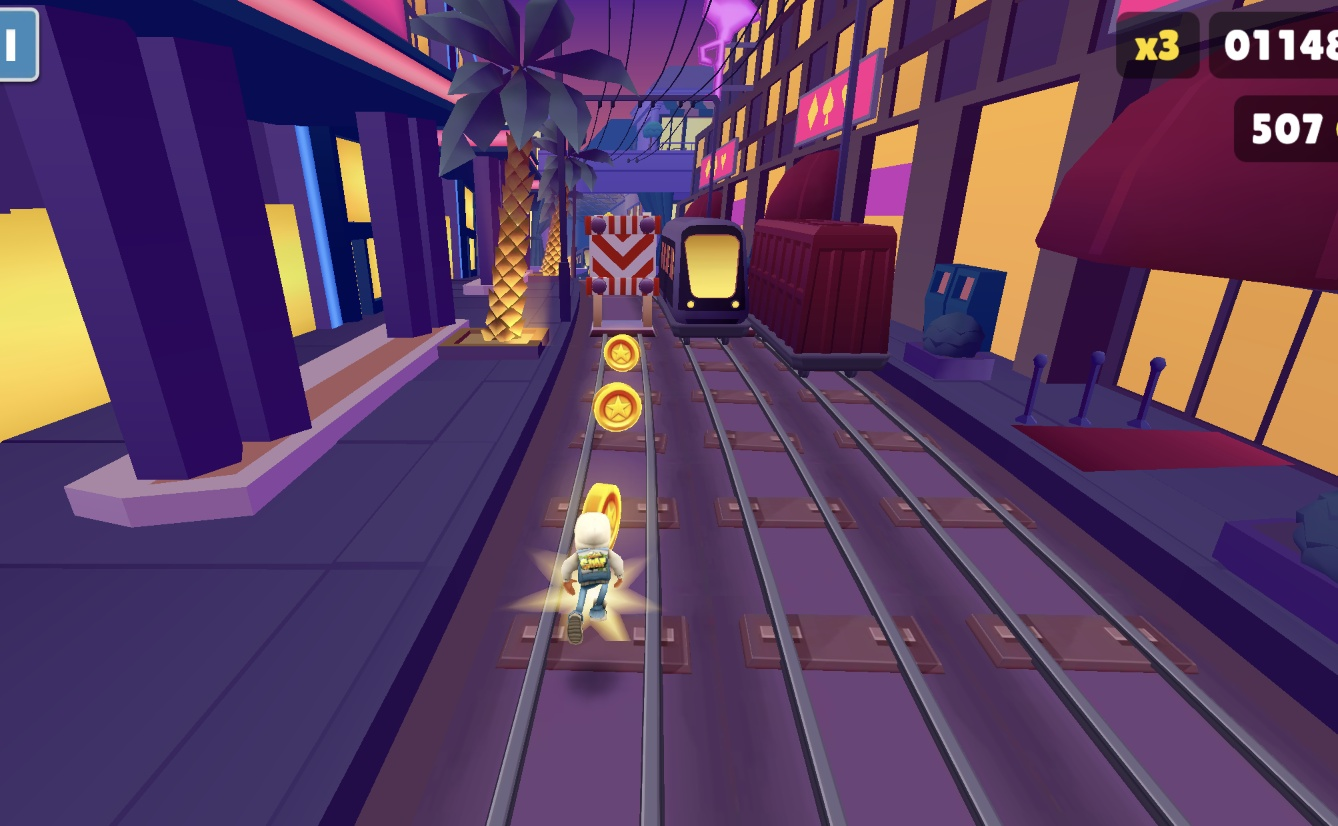overhead_barrier: (587, 210, 667, 339)
train: (739, 215, 896, 357), (662, 217, 756, 342)
